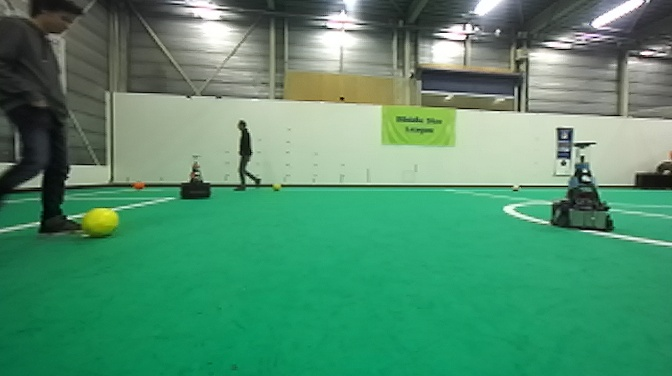ball: (80, 207, 119, 240), (128, 177, 145, 193), (270, 179, 284, 194), (510, 182, 522, 194)
human: (1, 1, 86, 237), (228, 116, 263, 191)
robot: (549, 139, 616, 232), (177, 153, 215, 201)
